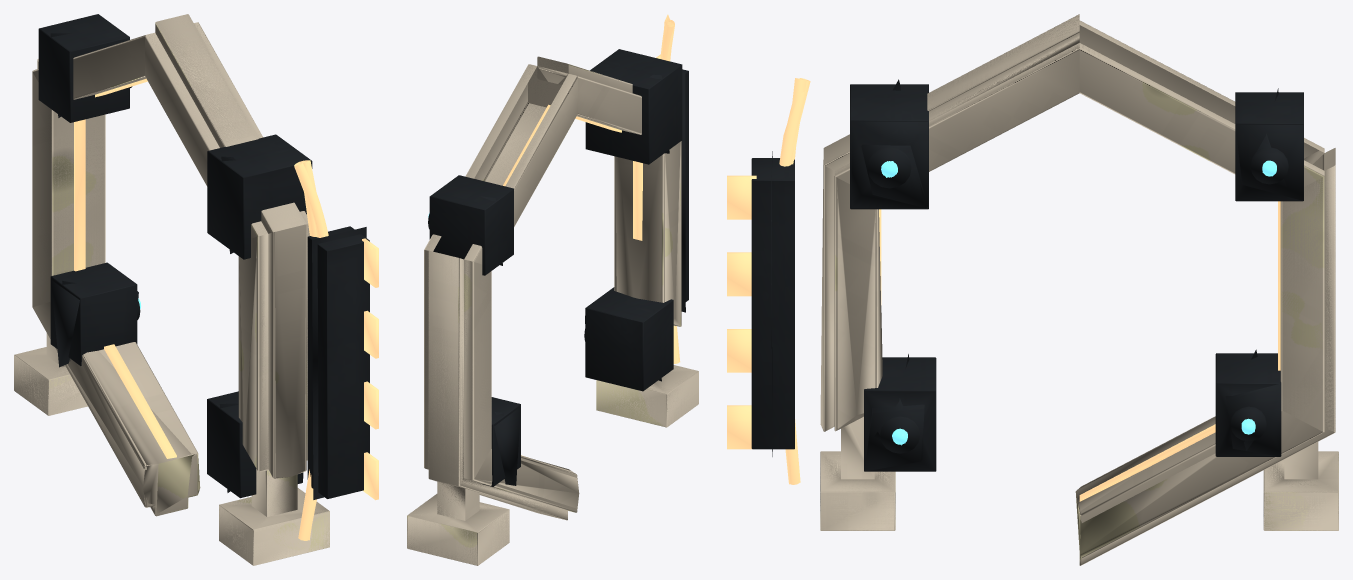
The model's file is helios_gate.glb.
The picture shows the model from 3 angles, left to right: view 1: azimuth 30°, elevation 25°; view 2: azimuth 150°, elevation 25°; view 3: azimuth 270°, elevation 25°; orthographic projection. The views are drawn at different scales.
Parts seen in each view (by area): view 1: LOD0_Merged_Material_Hull, LOD0_Merged_Material_Mechanical, LOD1_Merged_Material_Hull, LOD0_Merged_Material_Warm, LOD1_Merged_Material_Mechanical, LOD1_Merged_Material_Warm; view 2: LOD0_Merged_Material_Hull, LOD1_Merged_Material_Hull, LOD0_Merged_Material_Mechanical, LOD1_Merged_Material_Mechanical, LOD0_Merged_Material_Warm; view 3: LOD0_Merged_Material_Hull, LOD1_Merged_Material_Hull, LOD0_Merged_Material_Mechanical, LOD1_Merged_Material_Mechanical, LOD0_Merged_Material_Warm, LOD2_Merged_Material_Mechanical.
Boxes of the visible parts, x1,y1,x2,y2 form: LOD0_Merged_Material_Hull: [14, 14, 329, 565]; LOD0_Merged_Material_Mechanical: [38, 14, 369, 498]; LOD1_Merged_Material_Hull: [14, 14, 329, 565]; LOD0_Merged_Material_Warm: [74, 78, 378, 540]; LOD1_Merged_Material_Mechanical: [51, 86, 366, 499]; LOD1_Merged_Material_Warm: [298, 160, 316, 540]; LOD0_Merged_Material_Hull: [407, 56, 698, 565]; LOD1_Merged_Material_Hull: [407, 57, 698, 565]; LOD0_Merged_Material_Mechanical: [428, 49, 688, 486]; LOD1_Merged_Material_Mechanical: [494, 73, 685, 485]; LOD0_Merged_Material_Warm: [503, 19, 679, 456]; LOD0_Merged_Material_Hull: [820, 14, 1338, 565]; LOD1_Merged_Material_Hull: [820, 14, 1338, 565]; LOD0_Merged_Material_Mechanical: [751, 84, 1303, 471]; LOD1_Merged_Material_Mechanical: [771, 120, 1303, 471]; LOD0_Merged_Material_Warm: [727, 78, 1280, 501]; LOD2_Merged_Material_Mechanical: [861, 79, 1286, 450].
Size of the model in its own units: 5.36 by 27.98 by 28.98.
Materials: 4 (4 with a texture image).
